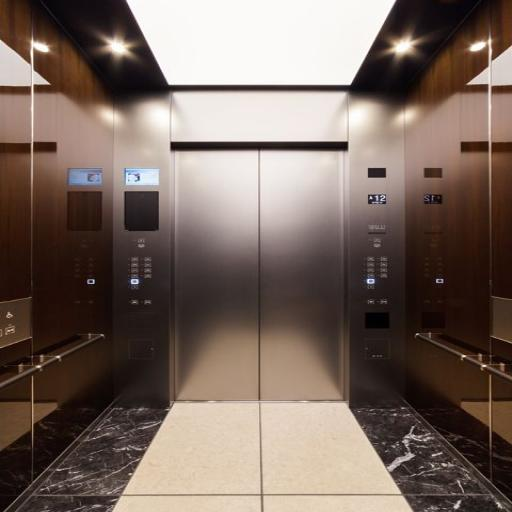closet: (111, 87, 407, 409)
